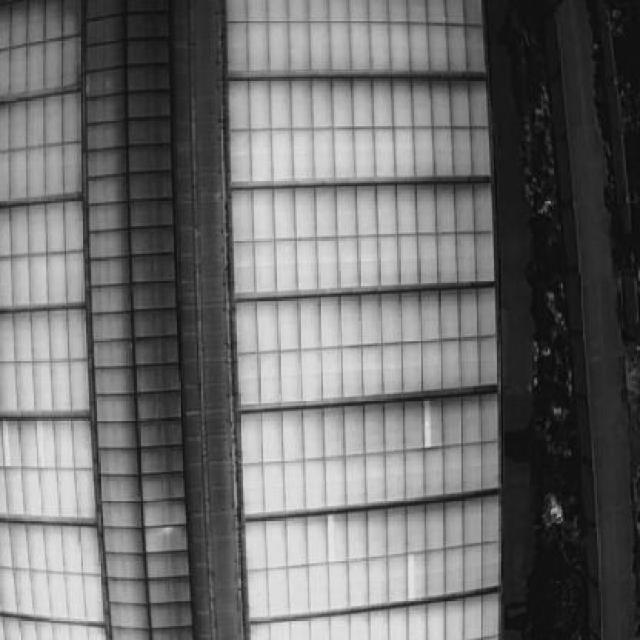diode: (407, 550, 416, 602), (422, 397, 430, 449), (327, 512, 333, 558)
